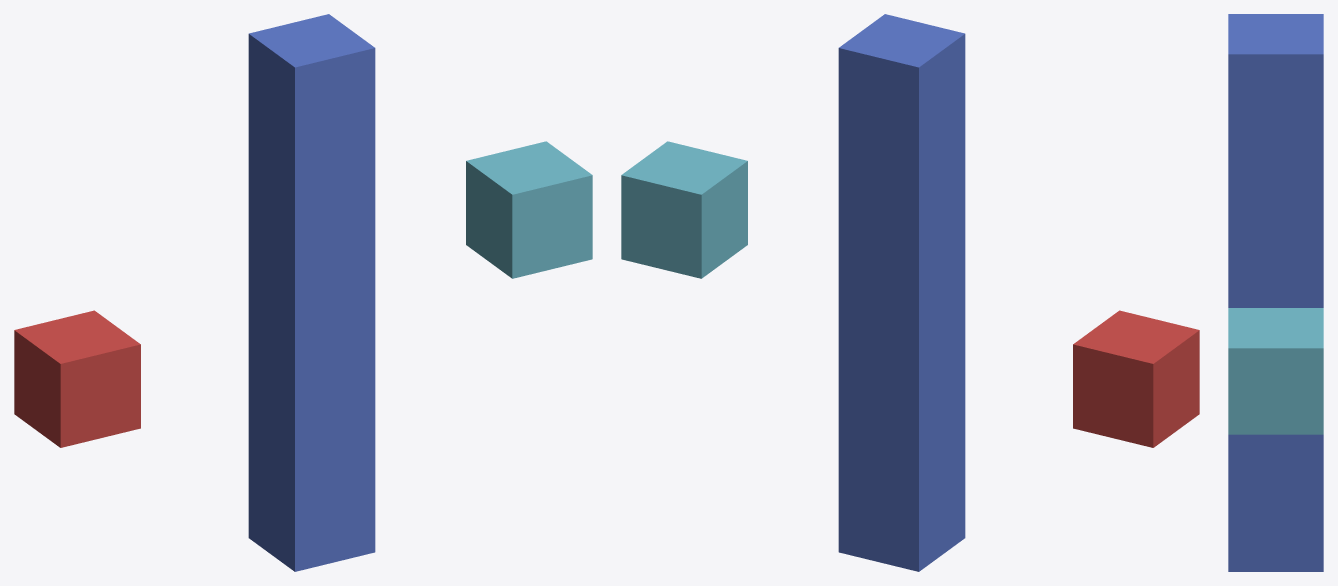
3 views of the same model, side by side, from view 1: azimuth 30°, elevation 25°; view 2: azimuth 150°, elevation 25°; view 3: azimuth 270°, elevation 25° (orthographic). The views are drawn at different scales.
Visible parts, largest first — view 1: Box-col, BigBox-col, Door-col; view 2: Box-col, BigBox-col, Door-col; view 3: Box-col, BigBox-col.
Boxes of the visible parts, x1,y1,x2,y2 form: Box-col: (248,14,375,571); BigBox-col: (466,141,592,278); Door-col: (14,310,140,447); Box-col: (838,14,965,571); BigBox-col: (621,141,747,278); Door-col: (1073,310,1199,447); Box-col: (1228,14,1323,571); BigBox-col: (1228,308,1323,434).
Size of the model in its own units: 3.31 by 0.5 by 3.
